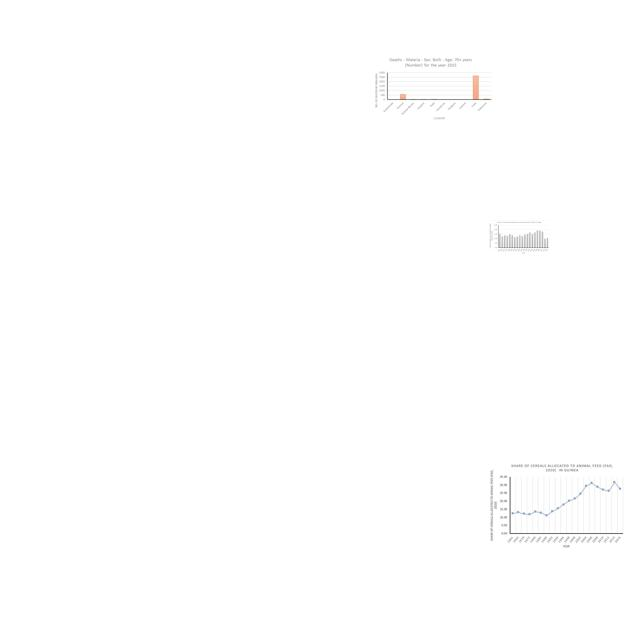Graph: (488, 462, 626, 549), (373, 56, 493, 122), (489, 220, 550, 255)
